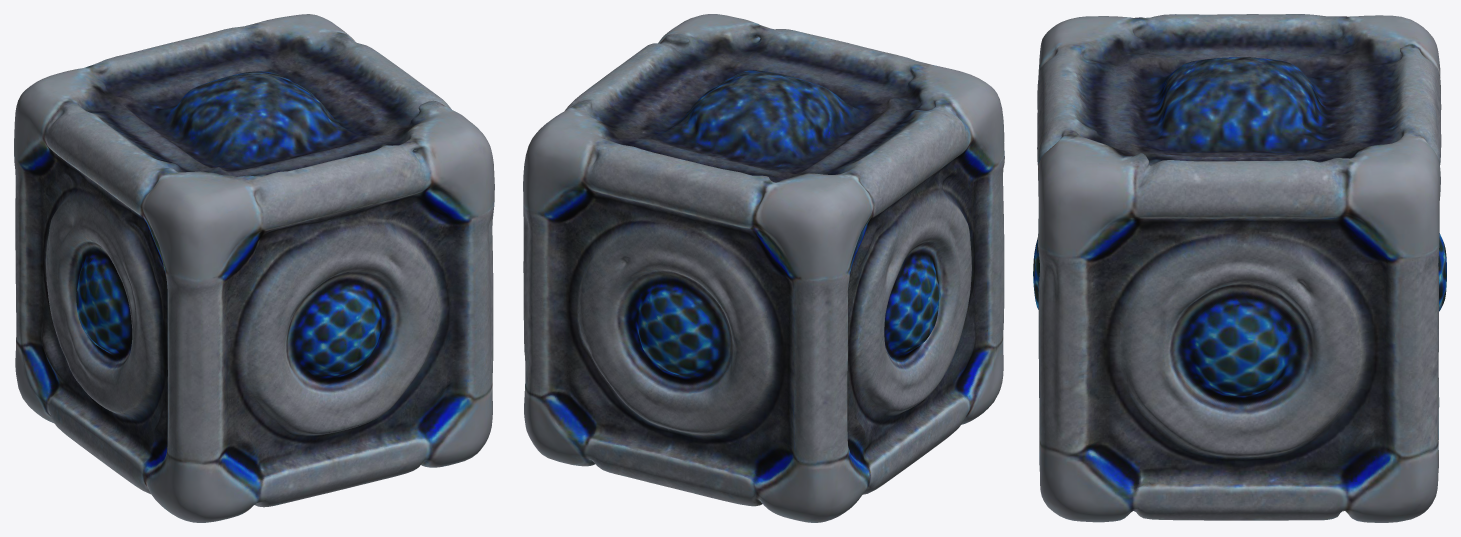
Rendered from ChronoKubus.fbx.
The picture shows the model from 3 angles, left to right: view 1: azimuth 30°, elevation 25°; view 2: azimuth 150°, elevation 25°; view 3: azimuth 270°, elevation 25°; orthographic projection. The views are drawn at different scales.
Parts seen in each view (by area): view 1: high_poly; view 2: high_poly; view 3: high_poly.
Boxes of the visible parts, <box> form: high_poly: <box>14,14,494,522</box>; high_poly: <box>523,14,1004,522</box>; high_poly: <box>1033,14,1446,522</box>.
Bounding box in the file's own units: 89.71 × 100 × 90.22.
